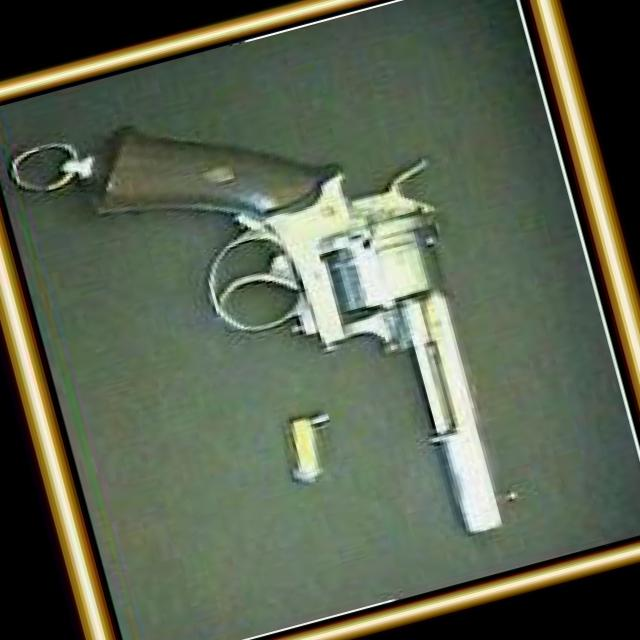handgun: (68, 46, 534, 614)
